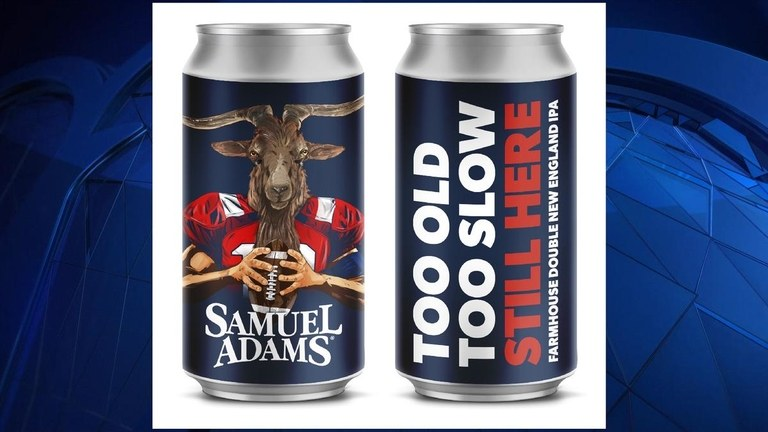beer can: (176, 18, 367, 401), (397, 17, 580, 405)
